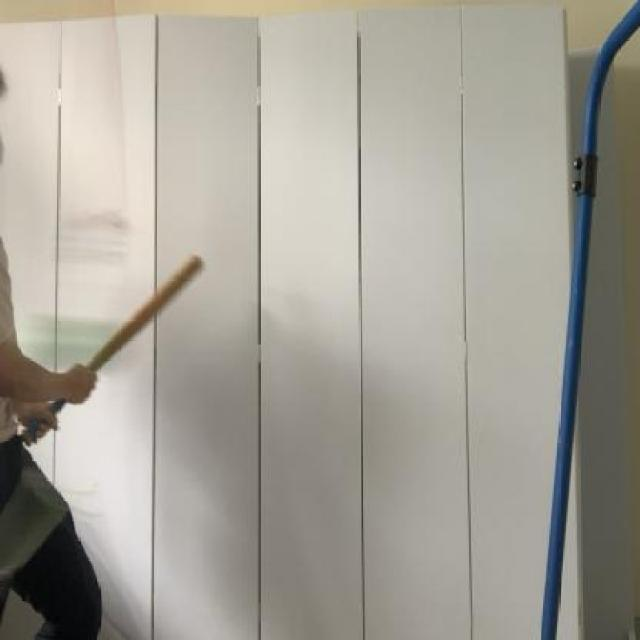baseball: (13, 299, 142, 396)
